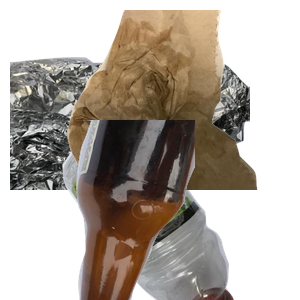glass: (60, 120, 300, 300)
metal: (10, 47, 250, 227)
plastic: (25, 120, 252, 300)
trash: (65, 10, 300, 190)
